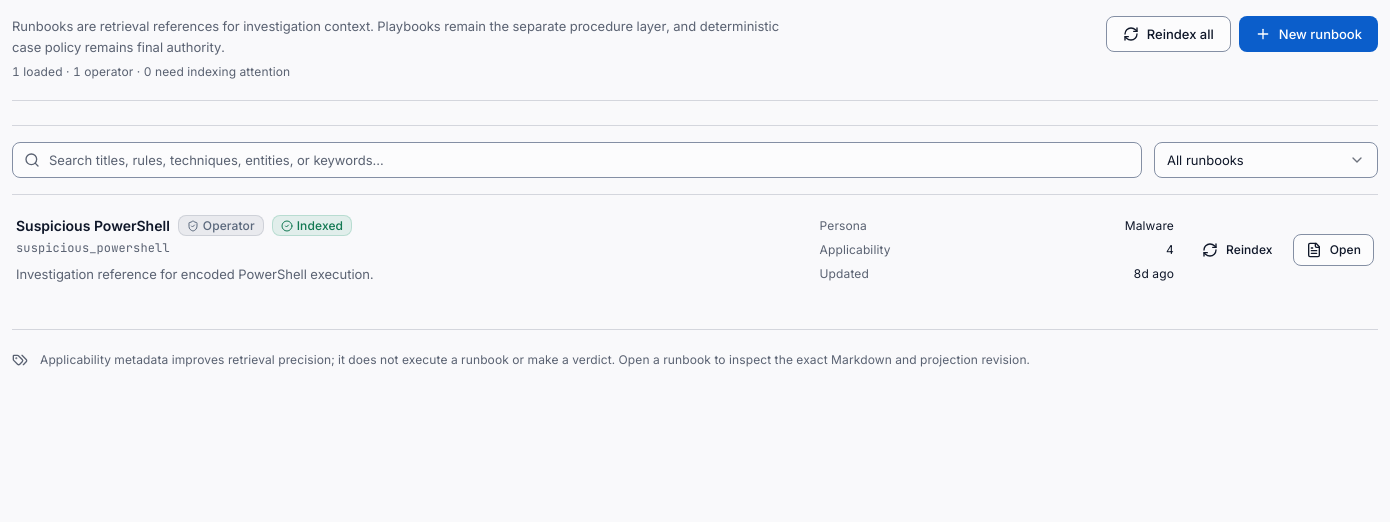
Intelligence Runbooks management › distinguishes filtered no-results and clears back to the loaded library
The image size is (1390, 522).
Expected: the text "Suspicious PowerShell" is shown, [16,217,170,234]
Type "definitely-not-present" into the field named "search runbooks". click: {"x": 577, "y": 160}
box: [12,142,1142,178]
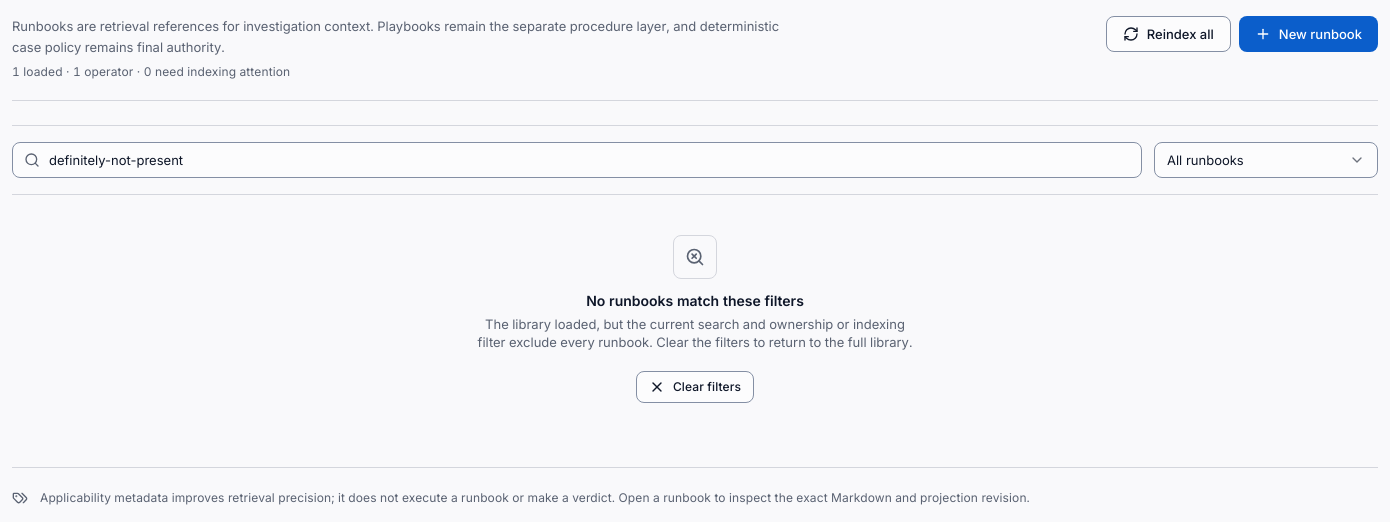
Click the button "Clear filters". click: {"x": 695, "y": 387}
box: [636,371,754,403]
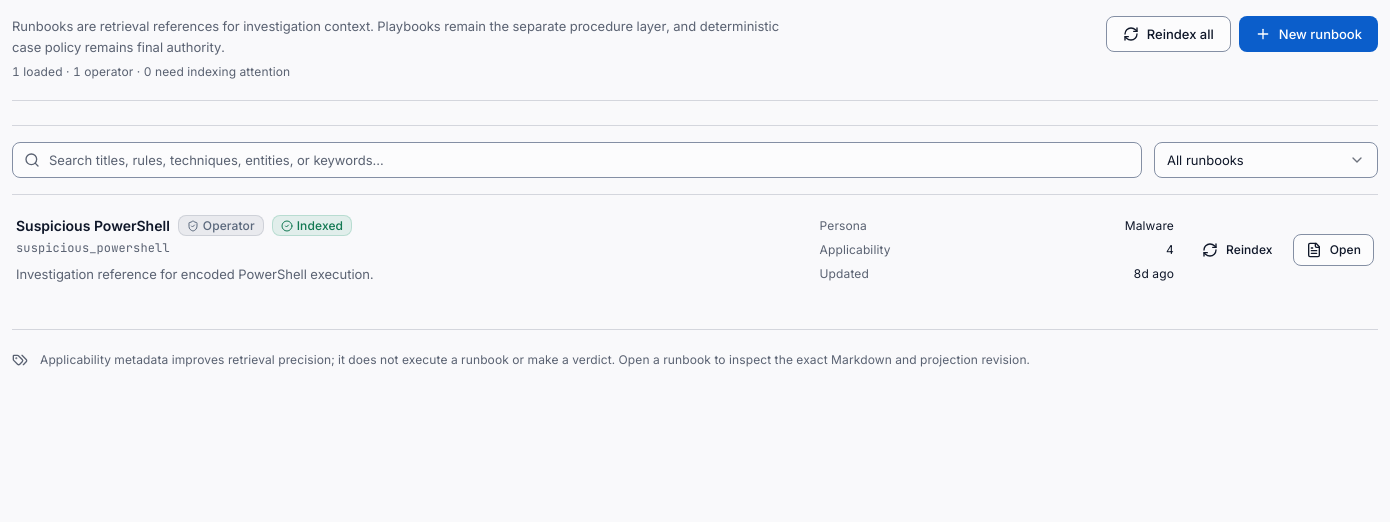
Result: the text "Suspicious PowerShell" is shown at [16,217,170,234]
Result: the text "No runbooks match" is gone
